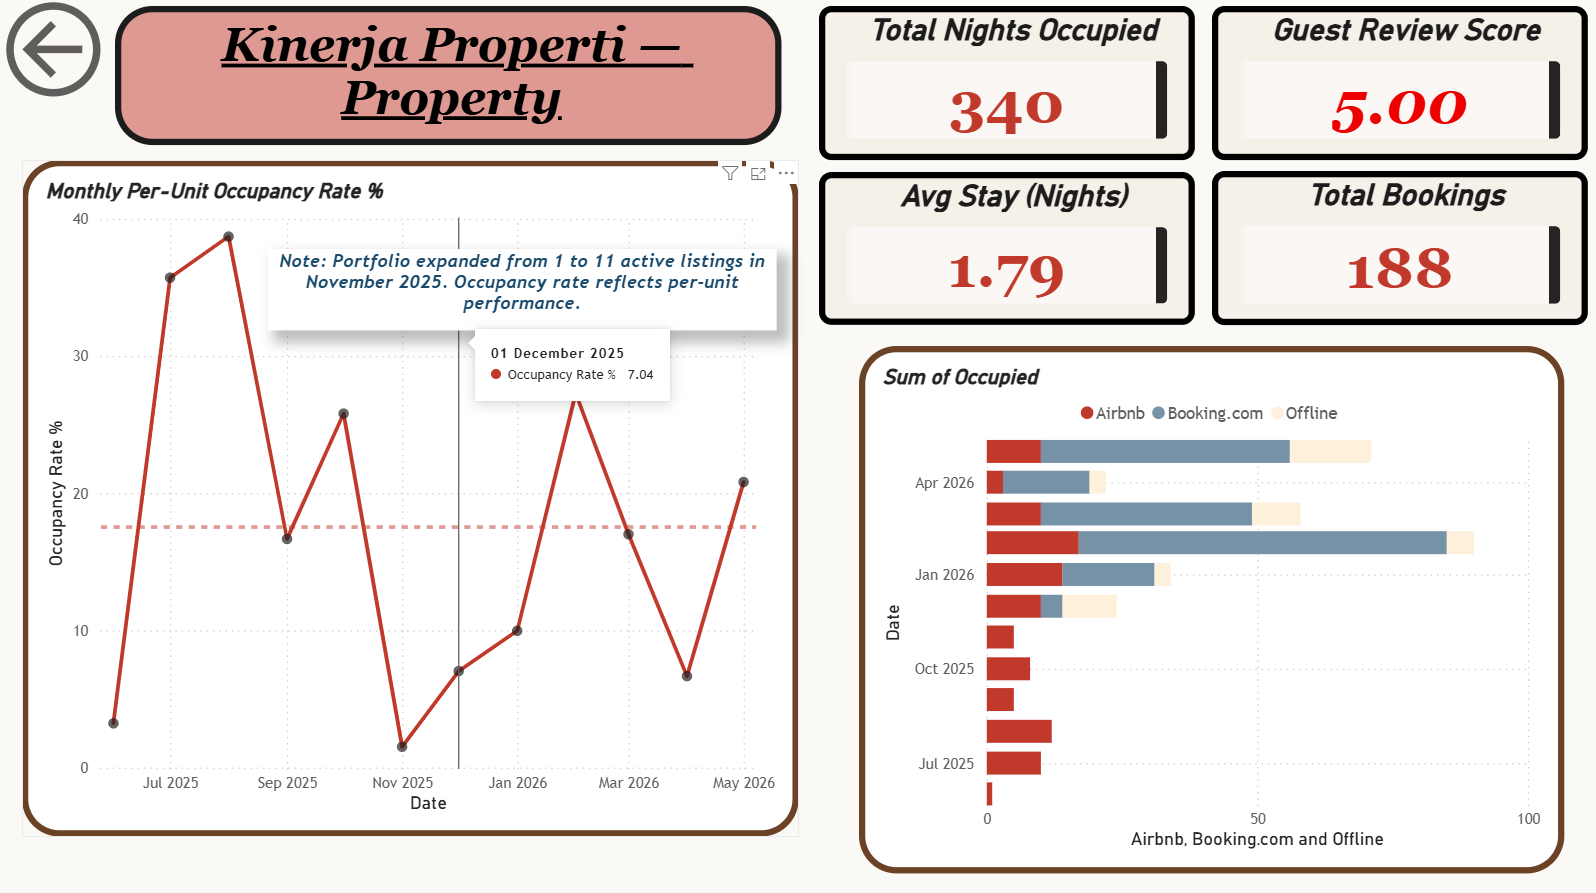

Layout of this report page (visuals, bound fields, positions):
{"tool":"powerbi","page":{"name":"Property Performance","canvas":[1280,720],"ordinal":1},"visuals":[{"type":"lineChart","title":"Monthly Per-Unit Occupancy Rate % ","fields":{"Category":["Property_Data.Date"],"Y":["Property_Data.Occupancy Rate %"]},"box":[20,133.3,620,540],"z":0},{"type":"barChart","title":"Sum of Occupied","fields":{"Category":["Property_Data.Date"],"Y":["Sum(Property_Data.Occupied Airbnb)","Sum(Property_Data.Occupied Bookingcom)","Sum(Property_Data.Occupied Offline)"]},"box":[688,282,563,421],"z":1000},{"type":"cardVisual","title":"Avg Stay (Nights)","fields":{"Data":["Property_Data.Avg Length of Stay"]},"box":[656,143,300,122],"z":2000},{"type":"cardVisual","title":"Total Bookings","fields":{"Data":["Sum(Property_Data.Total Bookings)"]},"box":[970,142,300,123],"z":3000},{"type":"cardVisual","title":"Guest Review Score","fields":{"Data":["Avg(Property_Data.Review Score)"]},"box":[970,10,300,123],"z":4000},{"type":"cardVisual","title":"Total Nights Occupied","fields":{"Data":["Sum(Property_Data.Total Occupied Nights)"]},"box":[656,10,300,123],"z":5000},{"type":"textbox","box":[216,204,406,65],"z":6000},{"type":"textbox","box":[94.4,10,532.2,111.1],"z":7000},{"type":"actionButton","box":[0,0,94.4,90],"z":8000}]}

Visuals, with their boxes in screenshot pixels (x1, y1, x2, y2), scaled from the page's 1280x720 canvas onto the 1596x893 screenshot:
"Monthly Per-Unit Occupancy Rate % " lineChart: box=[25, 165, 798, 835]
"Sum of Occupied" barChart: box=[858, 350, 1560, 872]
"Avg Stay (Nights)" cardVisual: box=[818, 177, 1192, 329]
"Total Bookings" cardVisual: box=[1209, 176, 1584, 329]
"Guest Review Score" cardVisual: box=[1209, 12, 1584, 165]
"Total Nights Occupied" cardVisual: box=[818, 12, 1192, 165]
textbox: box=[269, 253, 776, 334]
textbox: box=[118, 12, 781, 150]
actionButton: box=[0, 0, 118, 112]
